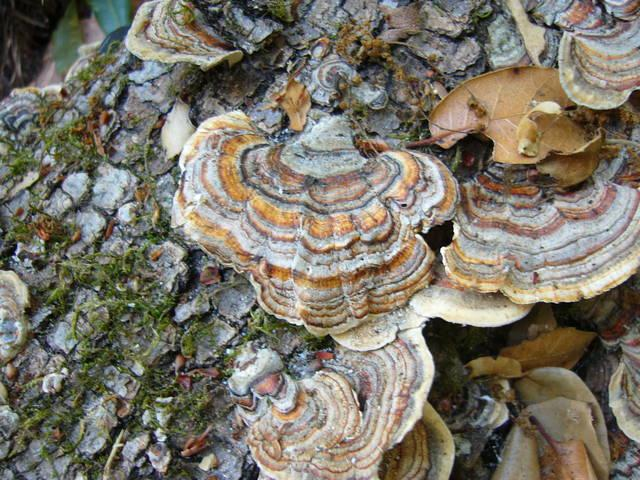poisonous_mushroom: (169, 107, 460, 350), (422, 63, 639, 305), (233, 325, 437, 479), (114, 0, 331, 81)
